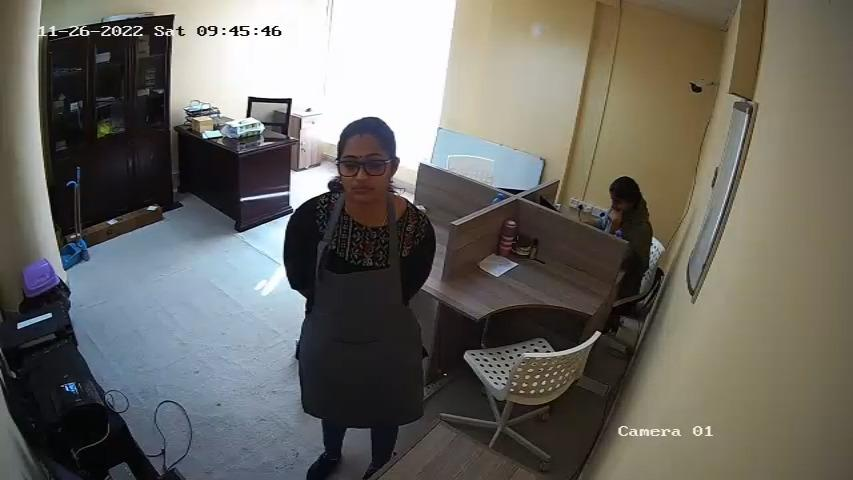apron: (308, 203, 420, 417)
